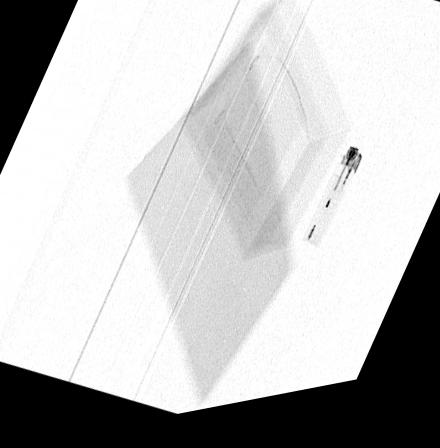Lighter: (301, 158, 363, 261)
